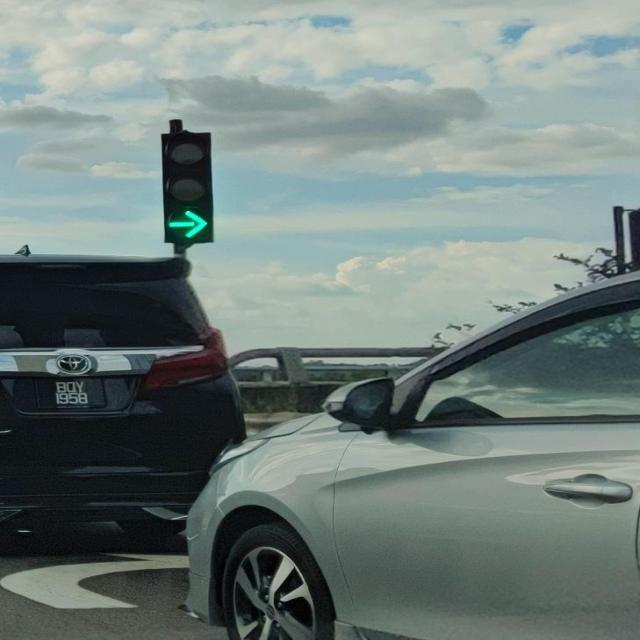car: (179, 250, 640, 640), (0, 248, 249, 554)
traffic light: (161, 129, 214, 245)
